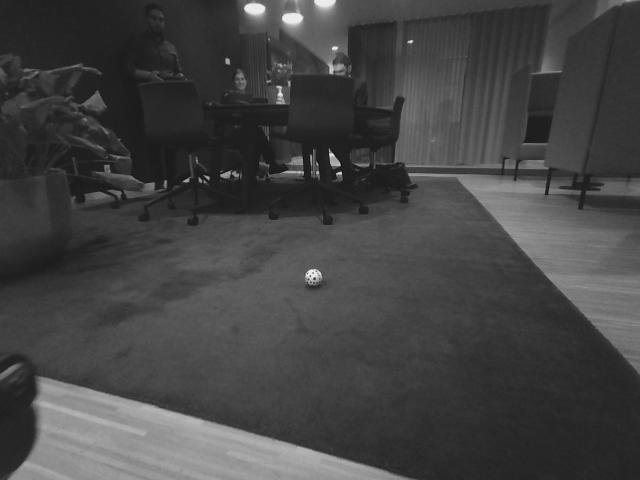dogtoy: (298, 265, 328, 291)
